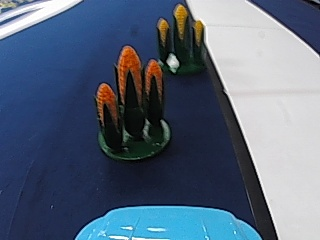corn: (91, 48, 171, 162), (152, 4, 212, 77)
